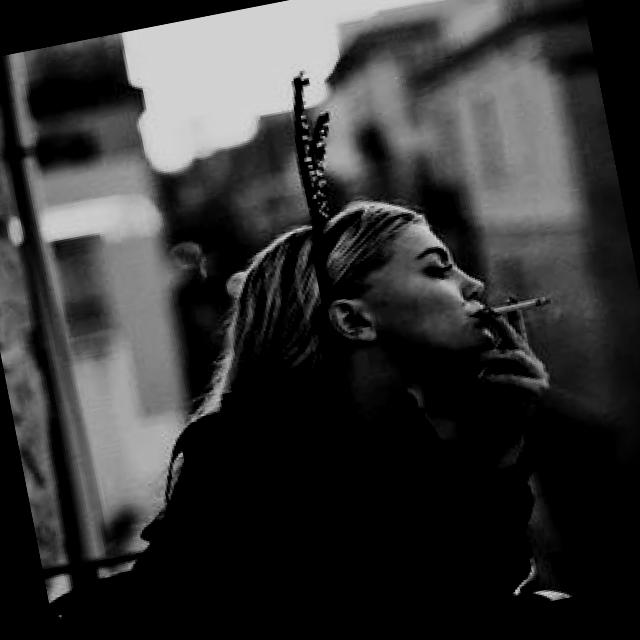smoke: (472, 284, 560, 324)
